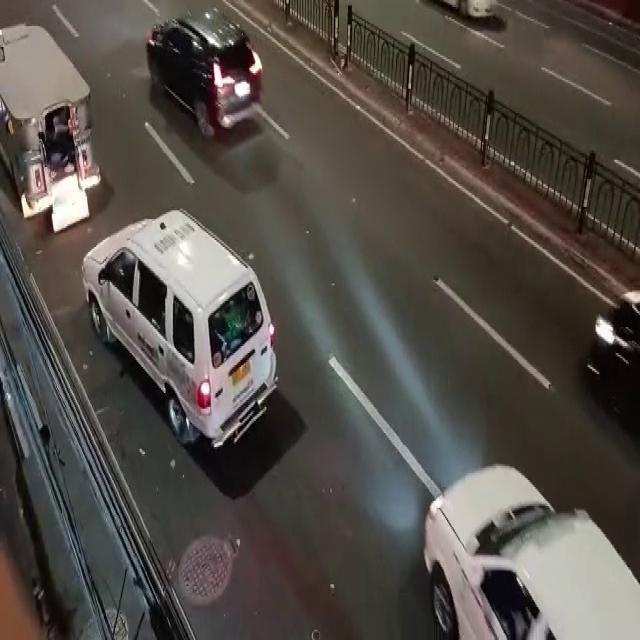car: (79, 213, 281, 470), (386, 453, 640, 640), (136, 4, 268, 162)
jeepney: (0, 11, 105, 236)
